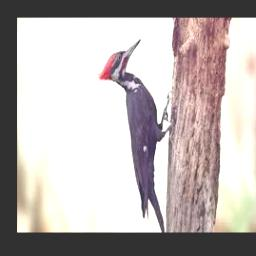Woodpecker: (98, 38, 172, 232)
